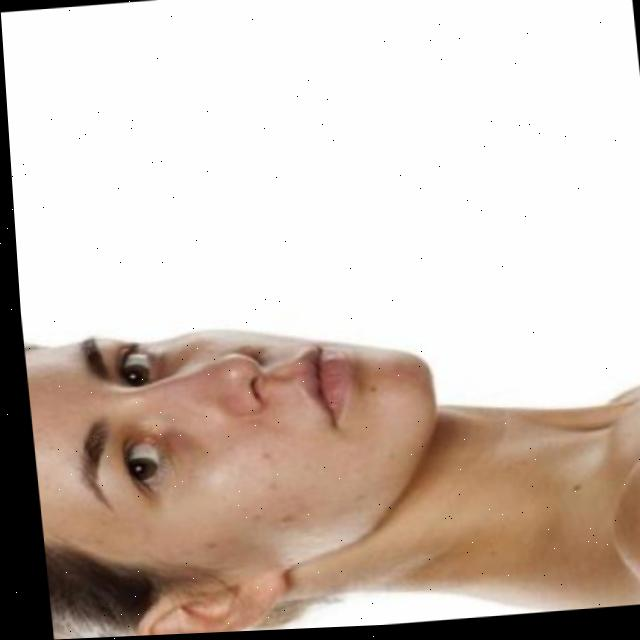Acne: (223, 433, 342, 550)
